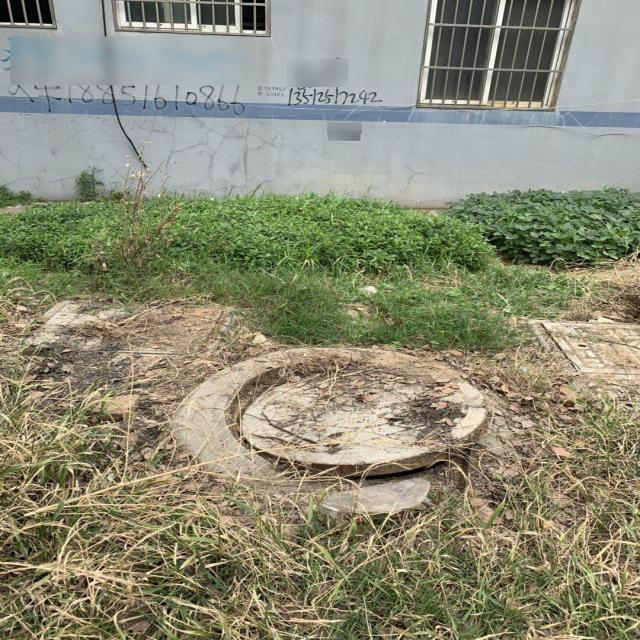Faulty: (225, 358, 488, 474)
